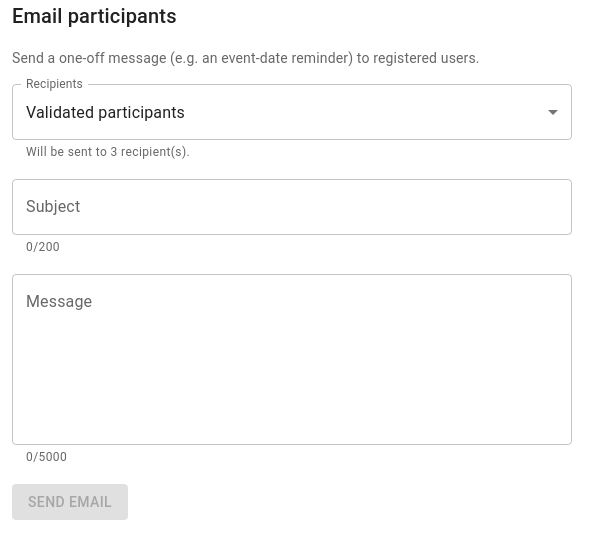
Test: EmailPanel › switching scope refetches the preview count
The width and height of the screenshot is (611, 537).
Expected: the text "Will be sent to 3 recipient(s)." is shown, 26,145 -> 190,159
Click the dropdown named "Recipients".
click(106, 112)  # box 26,102 -> 185,122
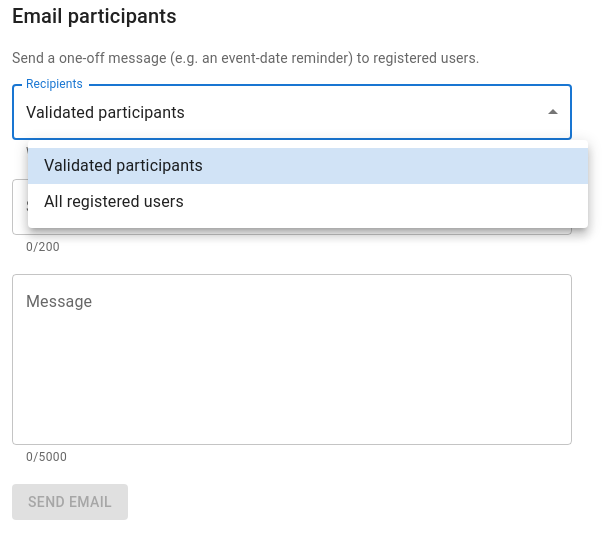
Click the option "All registered users".
click(114, 202)  # box 44,192 -> 184,211
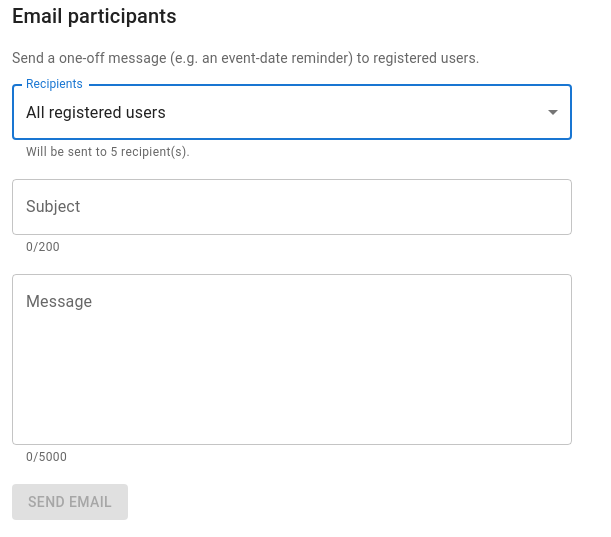
Expected: the text "Will be sent to 5 recipient(s)." is shown, 26,145 -> 190,159
